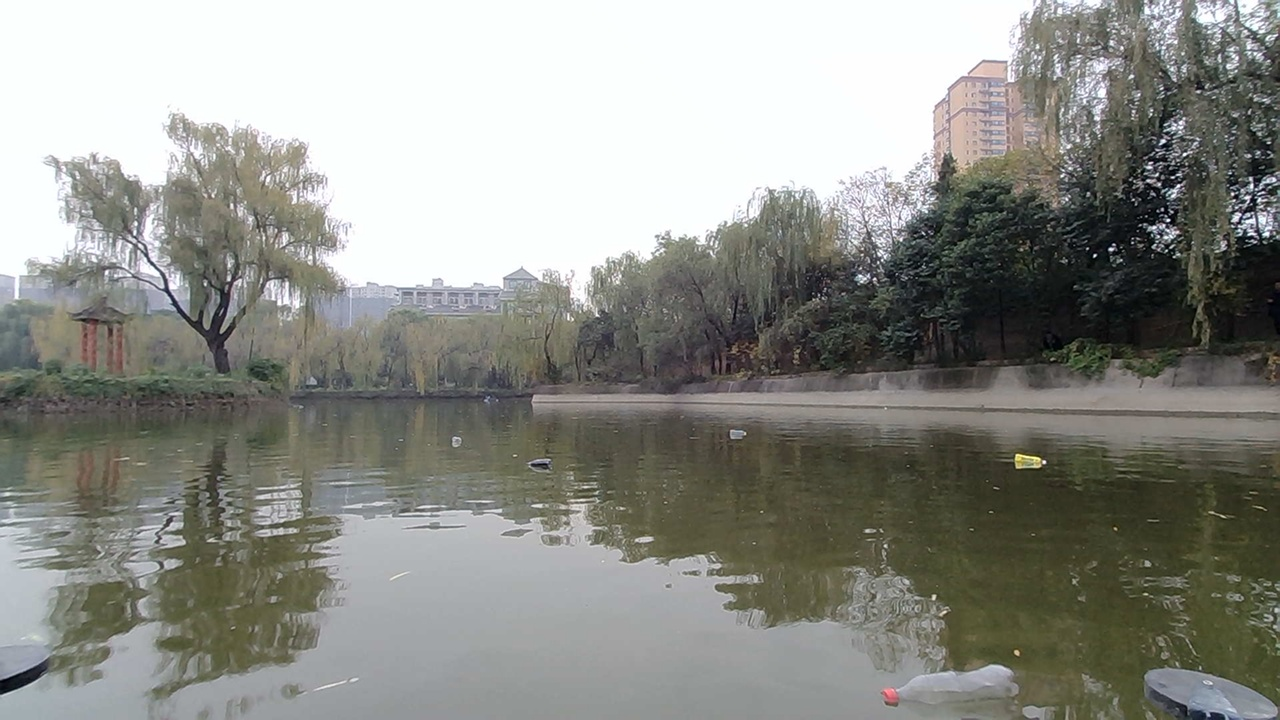bottle: (871, 646, 1052, 718), (519, 443, 571, 484), (431, 419, 486, 455), (1011, 443, 1044, 477), (717, 415, 758, 440)
